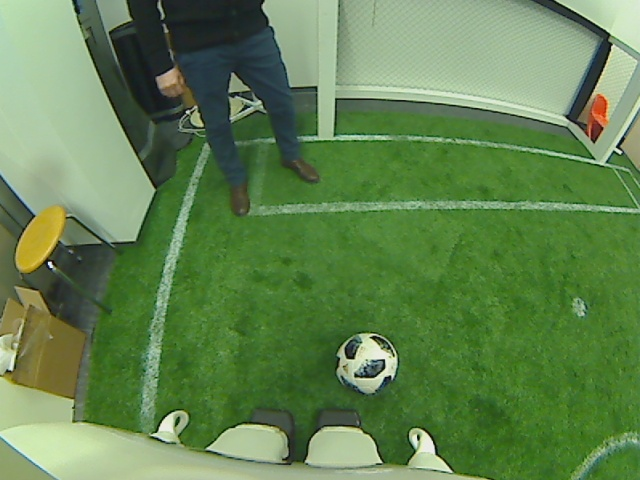ball: (333, 328, 398, 395)
